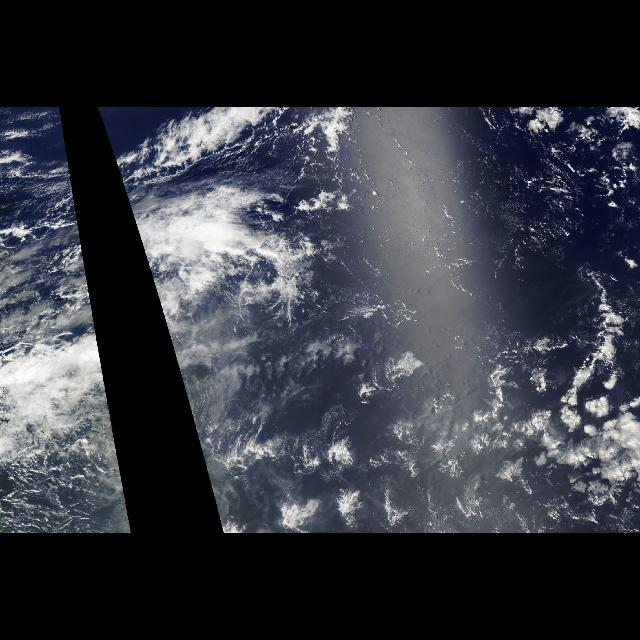Fish: (103, 114, 365, 196)
Flower: (178, 312, 640, 530)
